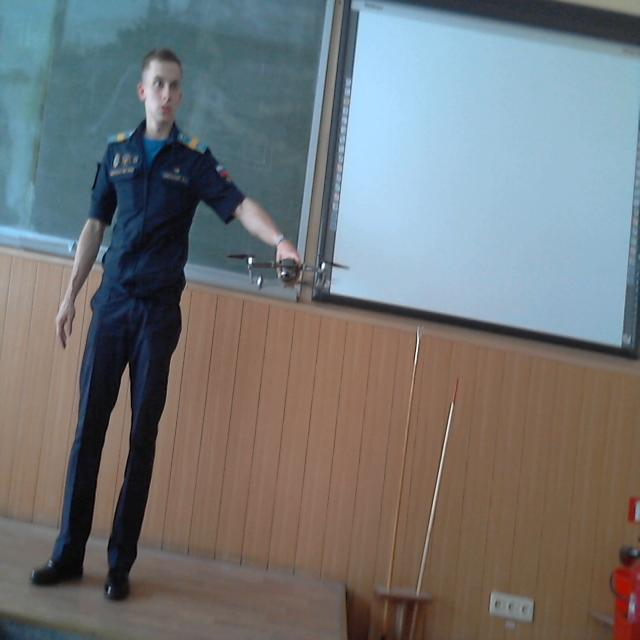drone: (227, 237, 346, 308)
